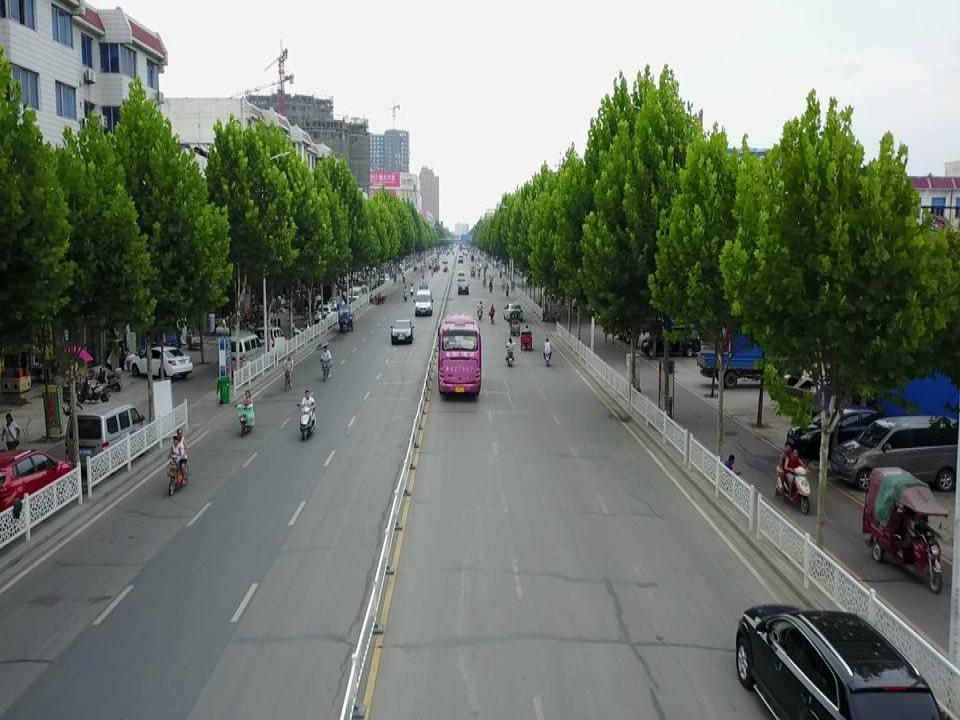car: (735, 602, 949, 720), (831, 416, 960, 492), (66, 404, 148, 469), (787, 405, 885, 456), (0, 448, 73, 513), (438, 314, 481, 395), (130, 346, 192, 378), (641, 324, 700, 355), (224, 335, 264, 373), (255, 327, 287, 357), (390, 319, 414, 345), (414, 290, 433, 314), (503, 304, 524, 319), (457, 281, 469, 295), (458, 272, 465, 279)
truck: (697, 328, 805, 381)
